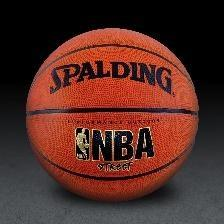Sports-Ball: (27, 29, 200, 206)
